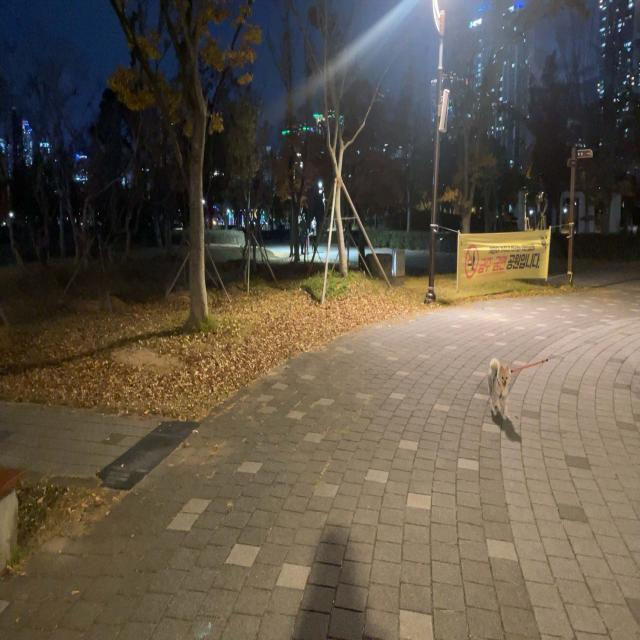Dog: (488, 357, 512, 421)
